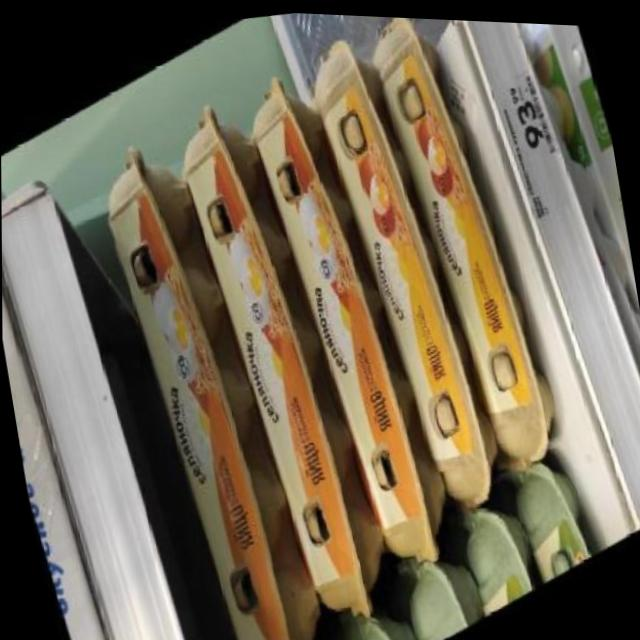Egg: (165, 71, 397, 640), (84, 109, 332, 640), (237, 41, 459, 592), (298, 10, 511, 535), (363, 13, 565, 486), (522, 18, 640, 402), (448, 483, 545, 618), (505, 443, 594, 584), (395, 539, 483, 640), (325, 586, 417, 640)
